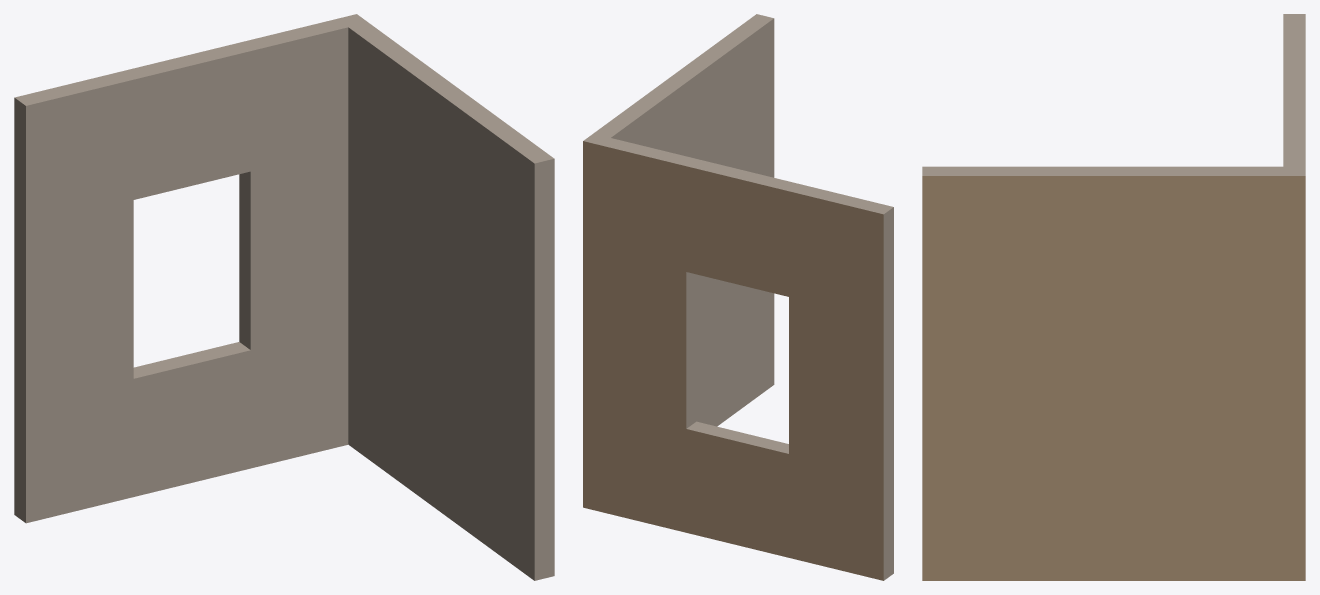
The model's file is Wall2_C4_07.fbx.
3 renders of one model, left to right at view 1: azimuth 30°, elevation 25°; view 2: azimuth 150°, elevation 25°; view 3: azimuth 270°, elevation 25°, orthographic. The views are drawn at different scales.
Parts seen in each view (by area): view 1: Wall2_C4_07; view 2: Wall2_C4_07; view 3: Wall2_C4_07.
Part boxes in pixels (x1=…): Wall2_C4_07: x1=14, y1=14, x2=554, y2=580; Wall2_C4_07: x1=583, y1=14, x2=893, y2=580; Wall2_C4_07: x1=922, y1=14, x2=1305, y2=580.
Bounding box in the file's own units: 258 × 300 × 258.
